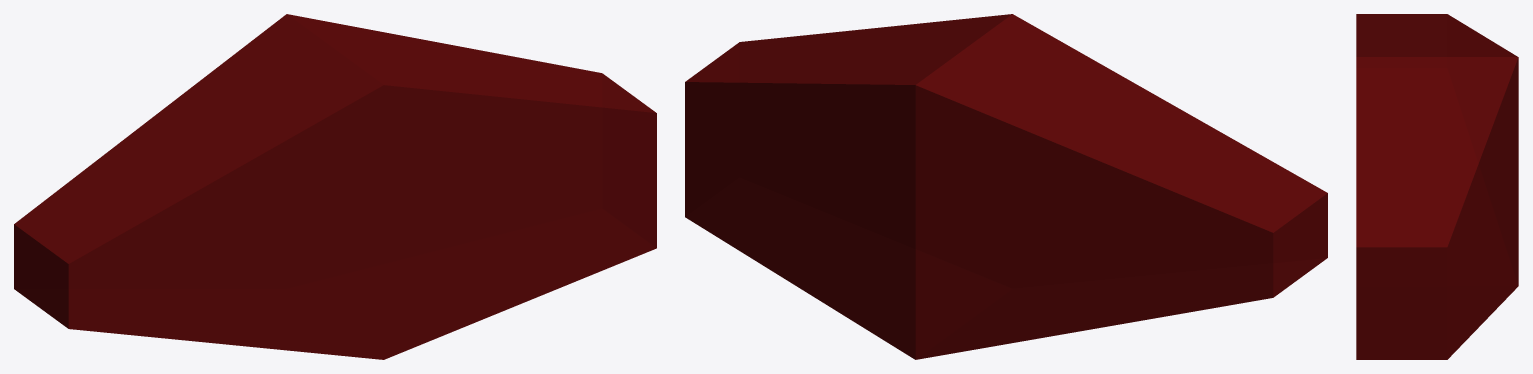
Rendered from BackR.obj.
The picture shows the model from 3 angles, left to right: view 1: azimuth 30°, elevation 25°; view 2: azimuth 150°, elevation 25°; view 3: azimuth 270°, elevation 25°; orthographic projection. The views are drawn at different scales.
Visible parts, largest first — view 1: BackR; view 2: BackR; view 3: BackR.
Part boxes in pixels (bbox=[...]): BackR: bbox=[14, 14, 656, 359]; BackR: bbox=[685, 14, 1327, 359]; BackR: bbox=[1356, 14, 1518, 359].
Bounding box in the file's own units: 0.0523 × 0.0233 × 0.0149.
